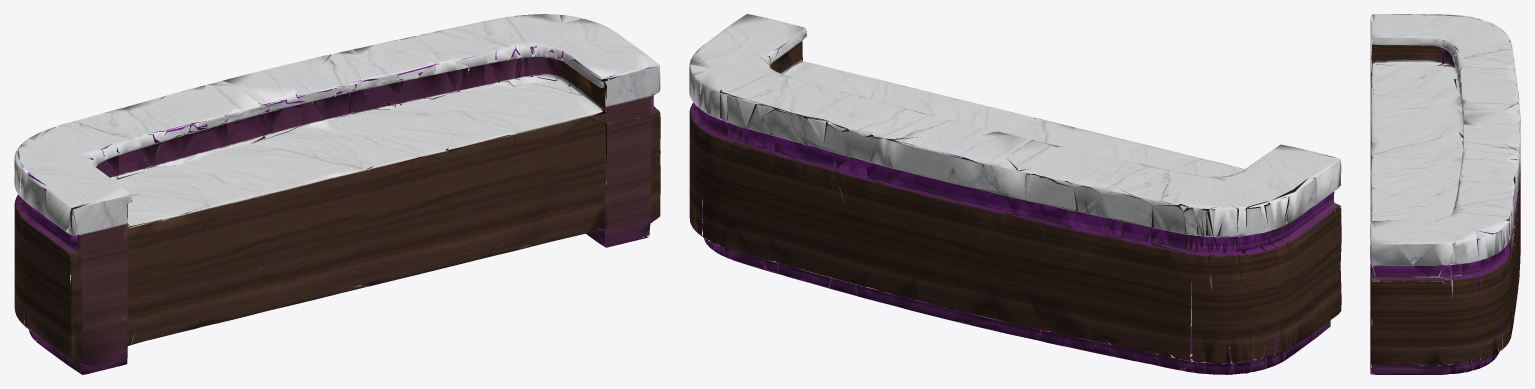
Rendered from reception.glb.
3 views of the same model, side by side, from view 1: azimuth 30°, elevation 25°; view 2: azimuth 150°, elevation 25°; view 3: azimuth 270°, elevation 25° (orthographic). The views are drawn at different scales.
Bounding box in the file's own units: 1.9 × 0.5265 × 0.5259.
1 material, 1 textured.
